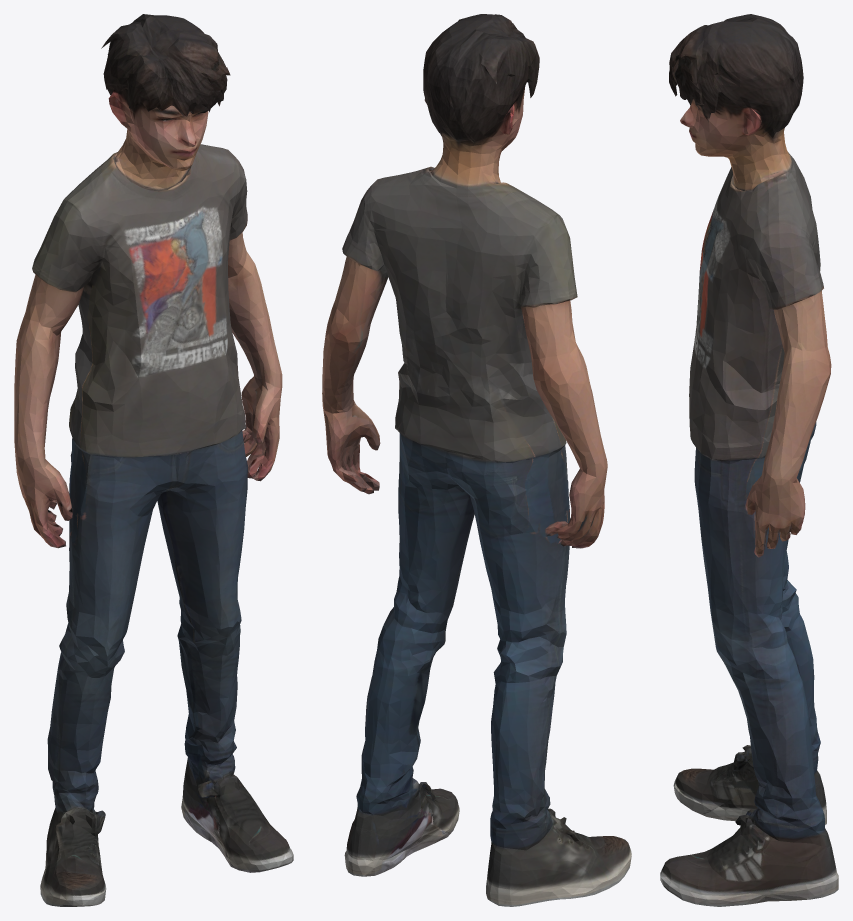
The model's file is A_male_teenager_in_A__0619083037_texture.fbx.
The picture shows the model from 3 angles, left to right: view 1: azimuth 30°, elevation 25°; view 2: azimuth 150°, elevation 25°; view 3: azimuth 270°, elevation 25°; orthographic projection.
Visible parts, largest first — view 1: temp; view 2: temp; view 3: temp.
Part boxes in pixels (<box>): temp: <box>14,14,293,906</box>; temp: <box>322,14,631,906</box>; temp: <box>660,14,838,906</box>.
Size of the model in its own units: 66.81 by 199 by 38.48.
1 material, 1 textured.
